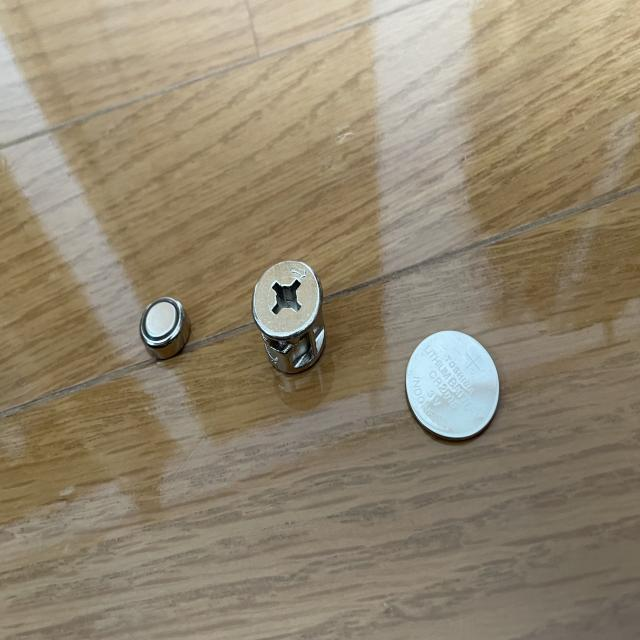COIN: (406, 329, 501, 442), (138, 296, 190, 359)
